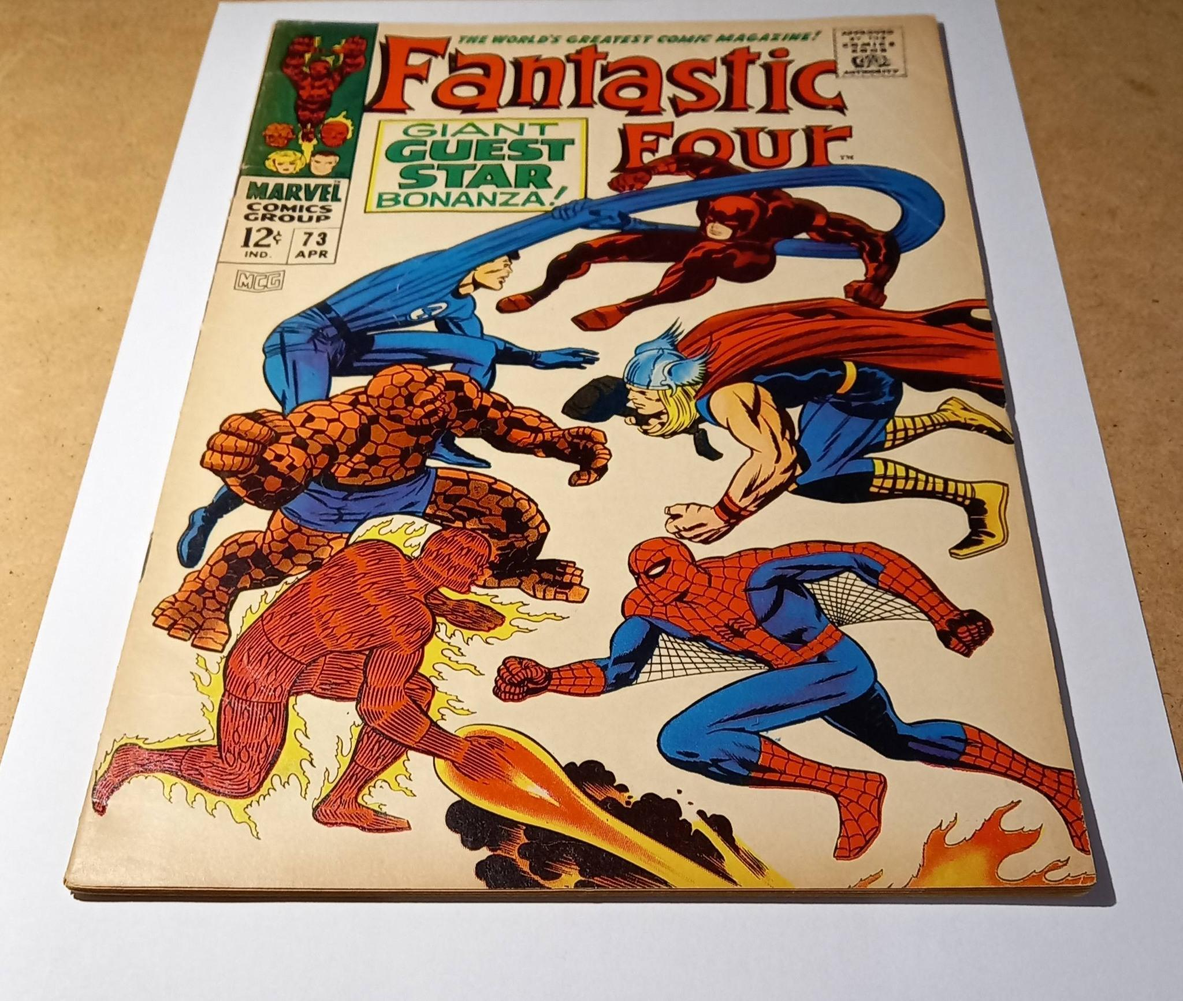comic: (59, 15, 1094, 899)
